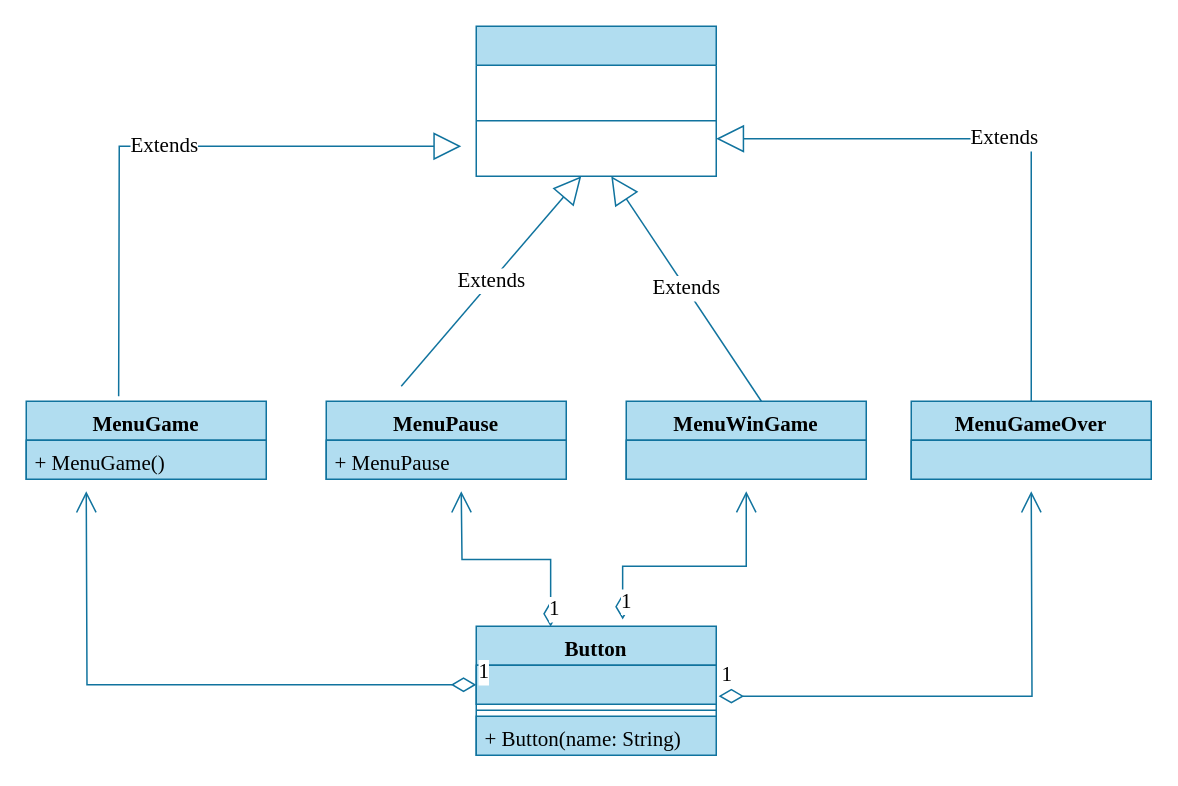
The diagram is 1178 pixels wide and 786 high, and some of its shapes have lost their labels. The shapes that lost their labels are listed below. From the top down, each one's box as (x1, y1, x2, y2) in pixels, then its label:
(475, 25, 716, 176): java.swing.Parent
(625, 439, 866, 479): + MenuWinGame()
(910, 439, 1151, 479): + MenuGameOver()
(475, 664, 716, 704): - text: Text
